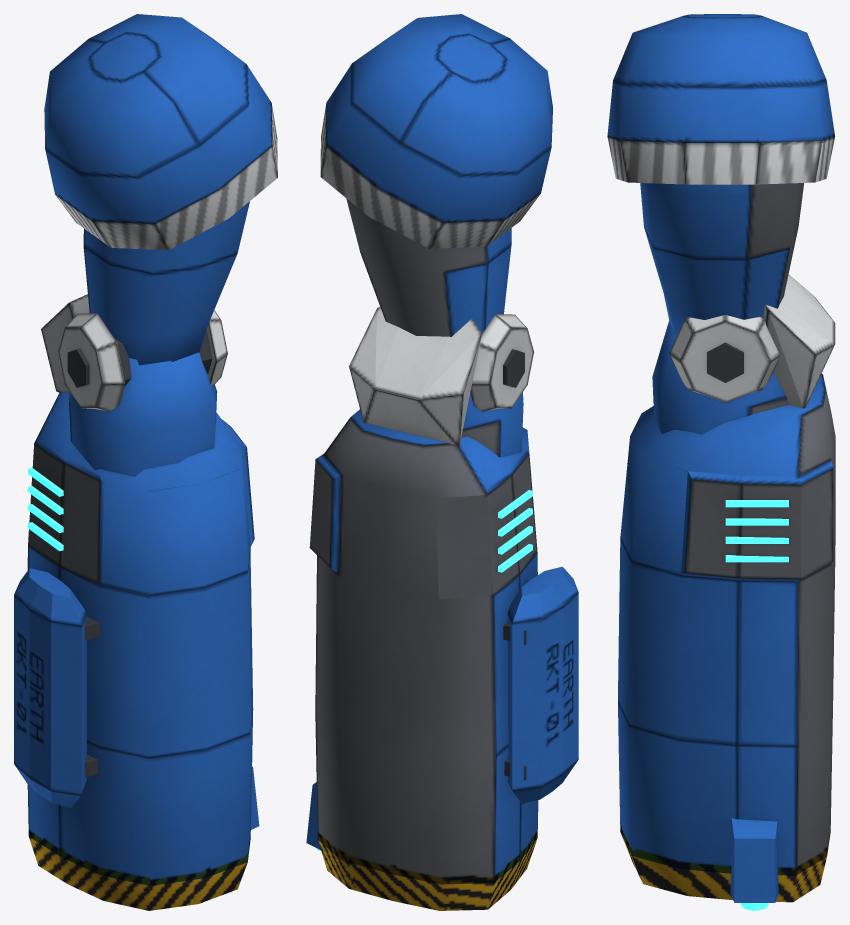
The model's file is LeftRocketArmX.glb.
3 views of the same model, side by side, from view 1: azimuth 30°, elevation 25°; view 2: azimuth 150°, elevation 25°; view 3: azimuth 270°, elevation 25° (orthographic). The views are drawn at different scales.
Visible parts, largest first — view 1: LeftRocketArmX_Fore, LeftRocketArmX_Upper; view 2: LeftRocketArmX_Fore, LeftRocketArmX_Upper; view 3: LeftRocketArmX_Fore, LeftRocketArmX_Upper.
Part boxes in pixels (x1,y1,x2,y2): LeftRocketArmX_Fore: (14,294,259,910); LeftRocketArmX_Upper: (44,14,277,365); LeftRocketArmX_Fore: (306,307,578,910); LeftRocketArmX_Upper: (320,14,552,336); LeftRocketArmX_Fore: (618,274,835,910); LeftRocketArmX_Upper: (607,14,834,336).
Bounding box in the file's own units: 4.87 × 16.78 × 4.06.
6 materials, 5 textured.
